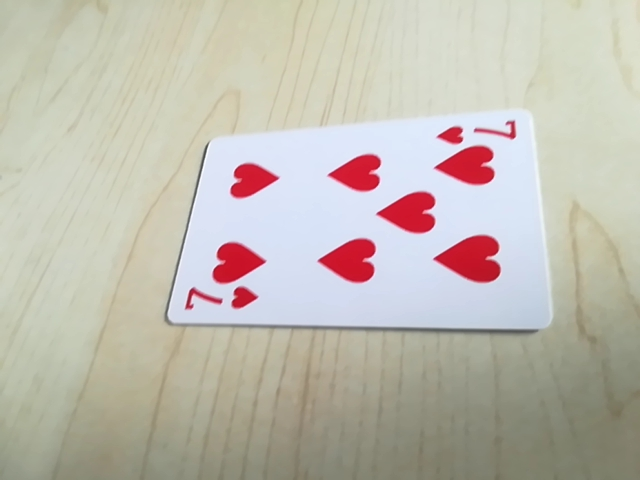hx 7: (434, 115, 522, 149), (180, 285, 261, 321)
